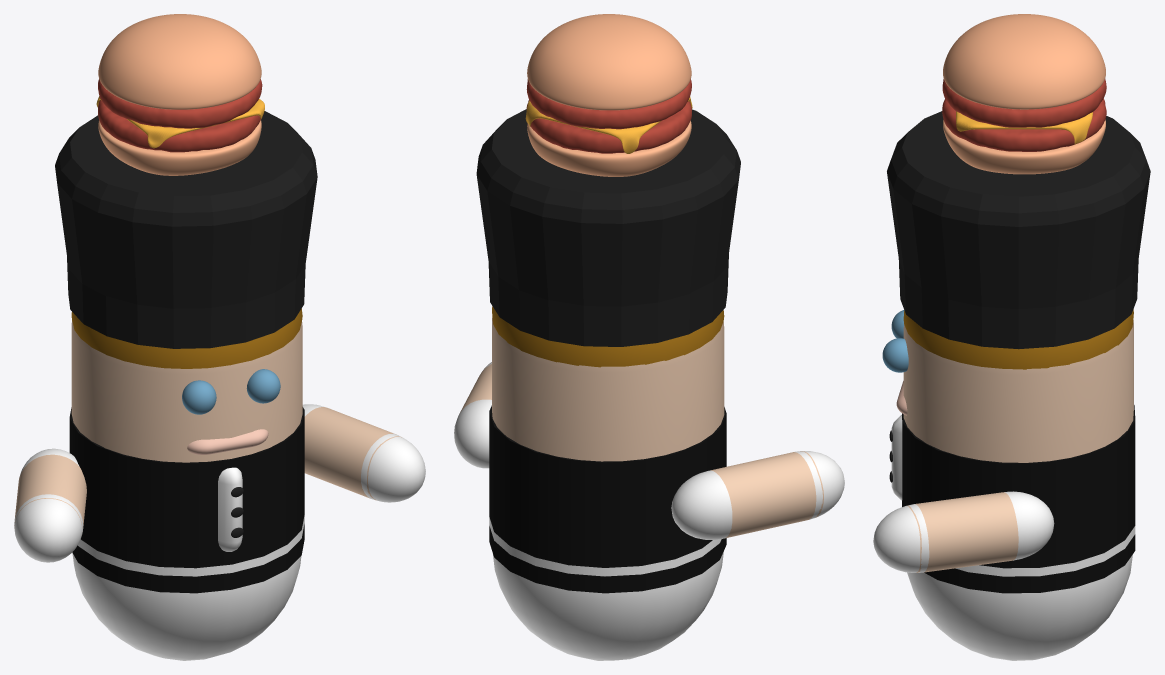
The model's file is burgerchef2.fbx.
The picture shows the model from 3 angles, left to right: view 1: azimuth 30°, elevation 25°; view 2: azimuth 150°, elevation 25°; view 3: azimuth 270°, elevation 25°; orthographic projection.
Parts seen in each view (by area): view 1: ChefHat, ChefShirt.002, Body.002, Roundcube.002, Pants.002, RightArm.002, Hair.002, BottomStripe.002, LeftGlove.002, Roundcube.003, RIghtGlove.002, Circle.002 (+8 smaller); view 2: ChefHat, ChefShirt.002, Body.002, Roundcube.002, Pants.002, LeftArm.002, Hair.002, BottomStripe.002, Roundcube.003, LeftSleeve.002, Circle.002, Circle.003 (+5 smaller); view 3: ChefHat, Body.002, ChefShirt.002, Roundcube.002, Pants.002, RightArm.002, Hair.002, Roundcube.003, BottomStripe.002, Circle.003, Circle.002, RIghtGlove.002 (+5 smaller).
Part boxes in pixels (bbox=[...]): ChefHat: bbox=[55, 111, 317, 348]; ChefShirt.002: bbox=[69, 407, 304, 568]; Body.002: bbox=[71, 321, 302, 462]; Roundcube.002: bbox=[98, 14, 261, 109]; Pants.002: bbox=[72, 553, 301, 660]; RightArm.002: bbox=[304, 407, 401, 500]; Hair.002: bbox=[71, 308, 302, 368]; BottomStripe.002: bbox=[72, 524, 304, 593]; LeftGlove.002: bbox=[14, 494, 83, 562]; Roundcube.003: bbox=[98, 120, 261, 175]; RIghtGlove.002: bbox=[361, 433, 425, 502]; Circle.002: bbox=[98, 100, 260, 152]; ChefHat: bbox=[476, 109, 740, 346]; ChefShirt.002: bbox=[489, 405, 726, 567]; Body.002: bbox=[492, 318, 724, 461]; Roundcube.002: bbox=[527, 14, 691, 110]; Pants.002: bbox=[492, 551, 723, 660]; LeftArm.002: bbox=[710, 451, 823, 538]; Hair.002: bbox=[492, 306, 724, 367]; BottomStripe.002: bbox=[489, 526, 726, 593]; Roundcube.003: bbox=[527, 120, 691, 176]; LeftSleeve.002: bbox=[671, 470, 732, 540]; Circle.002: bbox=[526, 100, 691, 153]; Circle.003: bbox=[526, 79, 691, 129]; ChefHat: bbox=[887, 111, 1150, 349]; Body.002: bbox=[903, 320, 1133, 462]; ChefShirt.002: bbox=[902, 405, 1135, 568]; Roundcube.002: bbox=[943, 14, 1105, 109]; Pants.002: bbox=[907, 554, 1132, 660]; RightArm.002: bbox=[907, 492, 1018, 572]; Hair.002: bbox=[903, 309, 1133, 369]; Roundcube.003: bbox=[943, 119, 1105, 174]; BottomStripe.002: bbox=[924, 534, 1135, 593]; Circle.003: bbox=[942, 79, 1106, 127]; Circle.002: bbox=[942, 98, 1106, 151]; RIghtGlove.002: bbox=[873, 504, 929, 572].
Size of the model in its own units: 188 by 297 by 120.
